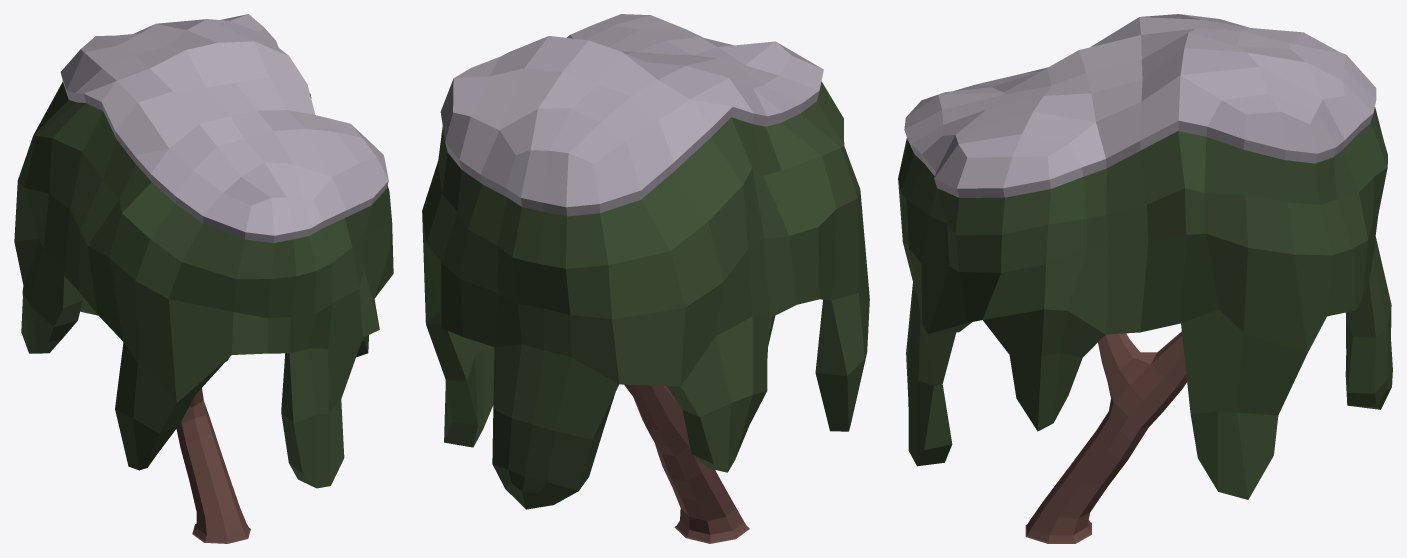
File: Willow_Snow_4.glb
The picture shows the model from 3 angles, left to right: view 1: azimuth 30°, elevation 25°; view 2: azimuth 150°, elevation 25°; view 3: azimuth 270°, elevation 25°; orthographic projection. The views are drawn at different scales.
Parts seen in each view (by area): view 1: Willow_Snow_4_Cube.142; view 2: Willow_Snow_4_Cube.142; view 3: Willow_Snow_4_Cube.142.
Boxes of the visible parts, x1,y1,x2,y2 form: Willow_Snow_4_Cube.142: (14,14,393,543); Willow_Snow_4_Cube.142: (422,14,869,543); Willow_Snow_4_Cube.142: (898,14,1392,543).
Bounding box in the file's own units: 2.19 × 3.46 × 3.04.
